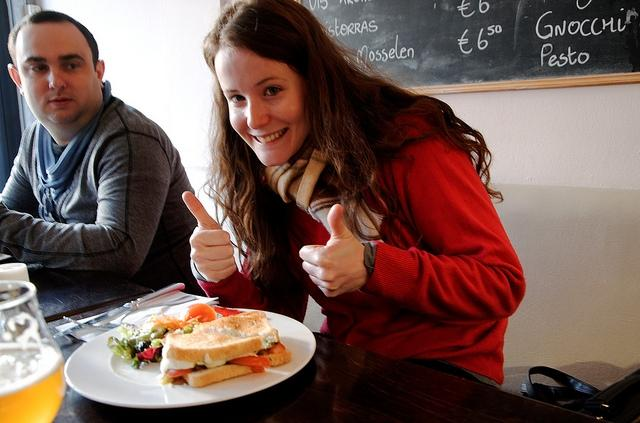tomato: (180, 303, 217, 323), (227, 356, 270, 366), (166, 368, 192, 377), (269, 342, 286, 354), (141, 348, 153, 360)
